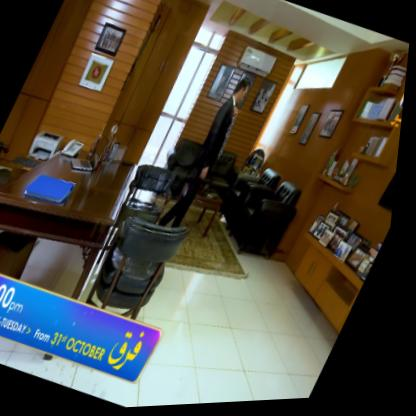Chair: (88, 202, 203, 332), (101, 160, 189, 275)
Closet: (96, 0, 215, 169)
Sofa: (224, 172, 313, 266), (156, 135, 251, 209), (219, 161, 288, 240)
Table: (0, 115, 150, 380), (169, 182, 232, 244)
